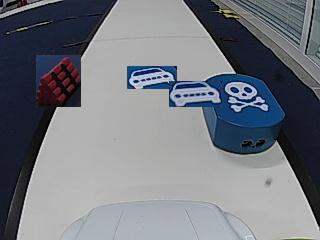danger: (226, 82, 266, 111)
